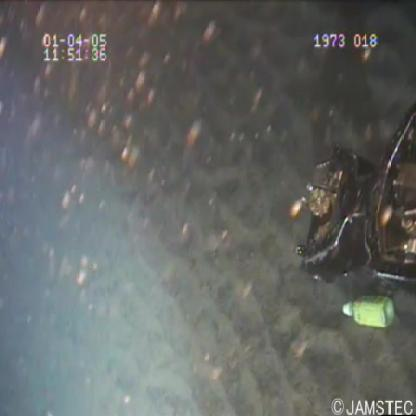Rov: (291, 87, 416, 291)
Rác: (340, 289, 397, 341)
